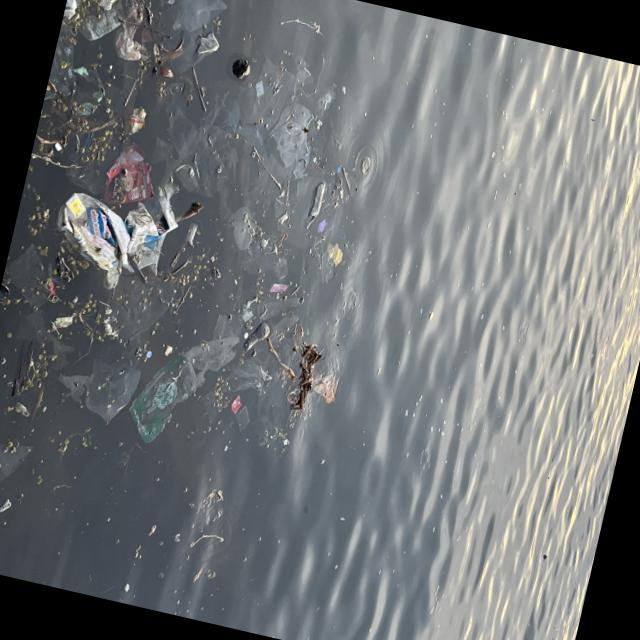plastic bag: (62, 196, 181, 285)
